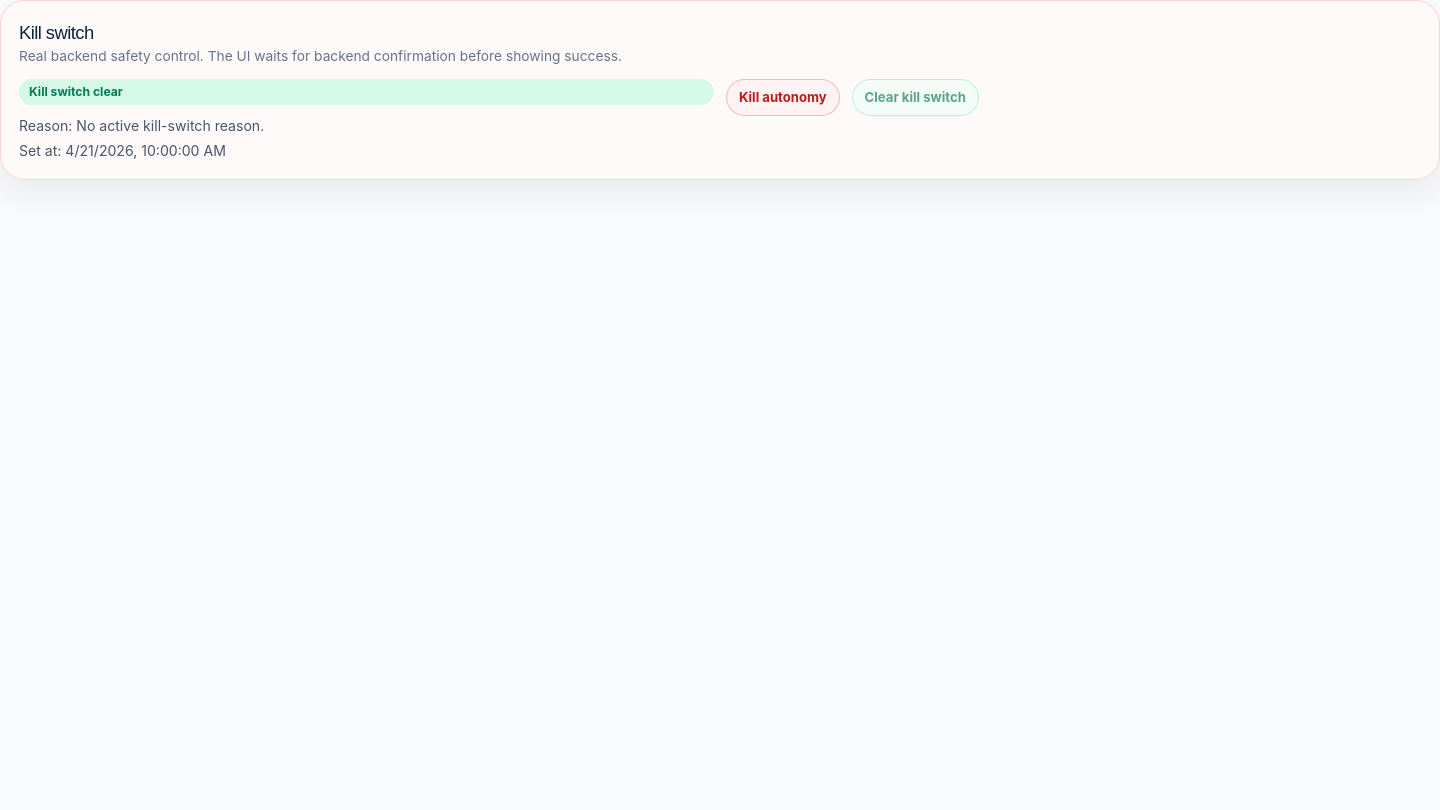
Test: cancel closes the dialog without calling onSetKillSwitch
The width and height of the screenshot is (1440, 810).
Click the button "Kill autonomy": (783, 97) [726, 79, 840, 116]
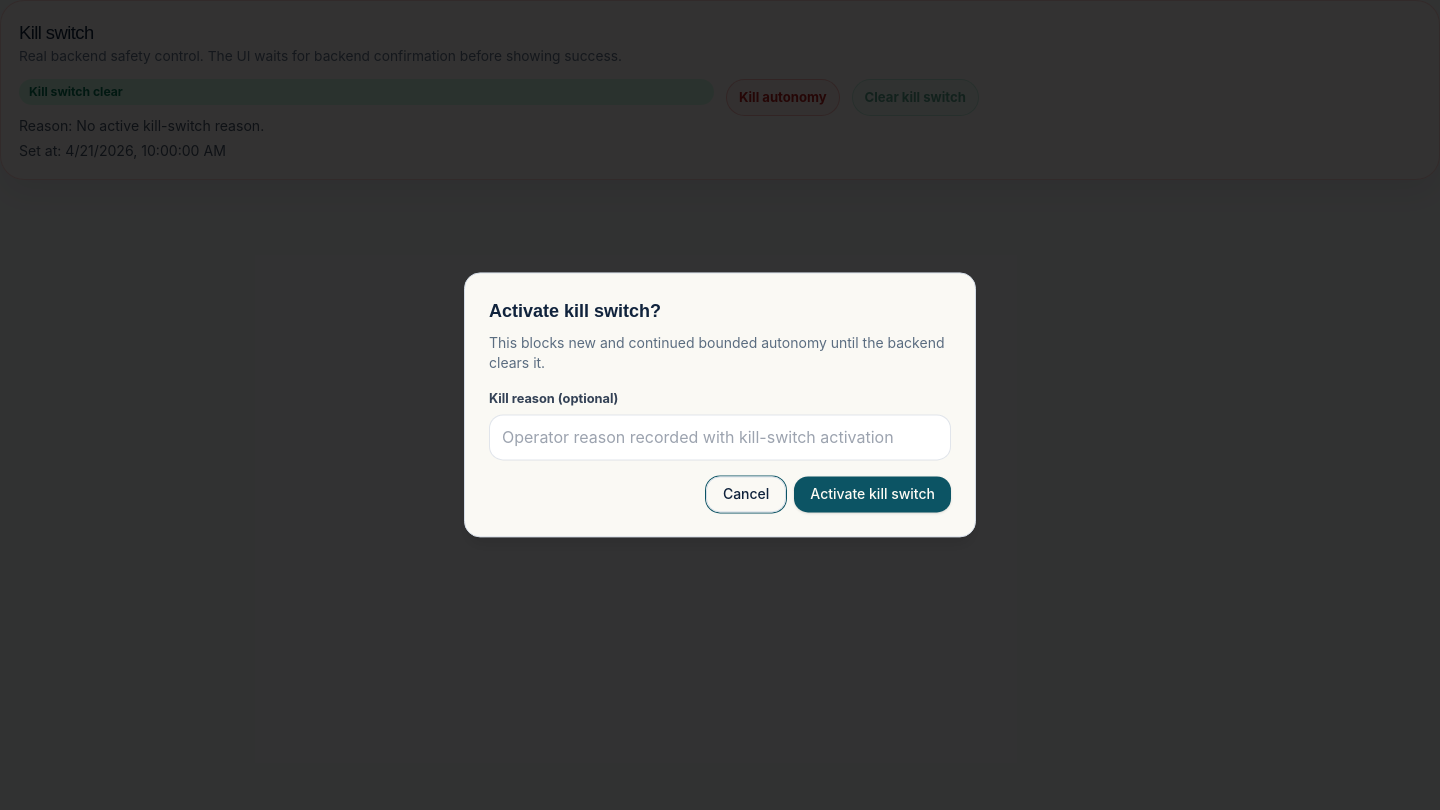
Now the heading "Activate kill switch?" is shown, box [489, 301, 661, 321]
Click the button "Cancel": (746, 495) [706, 477, 786, 513]
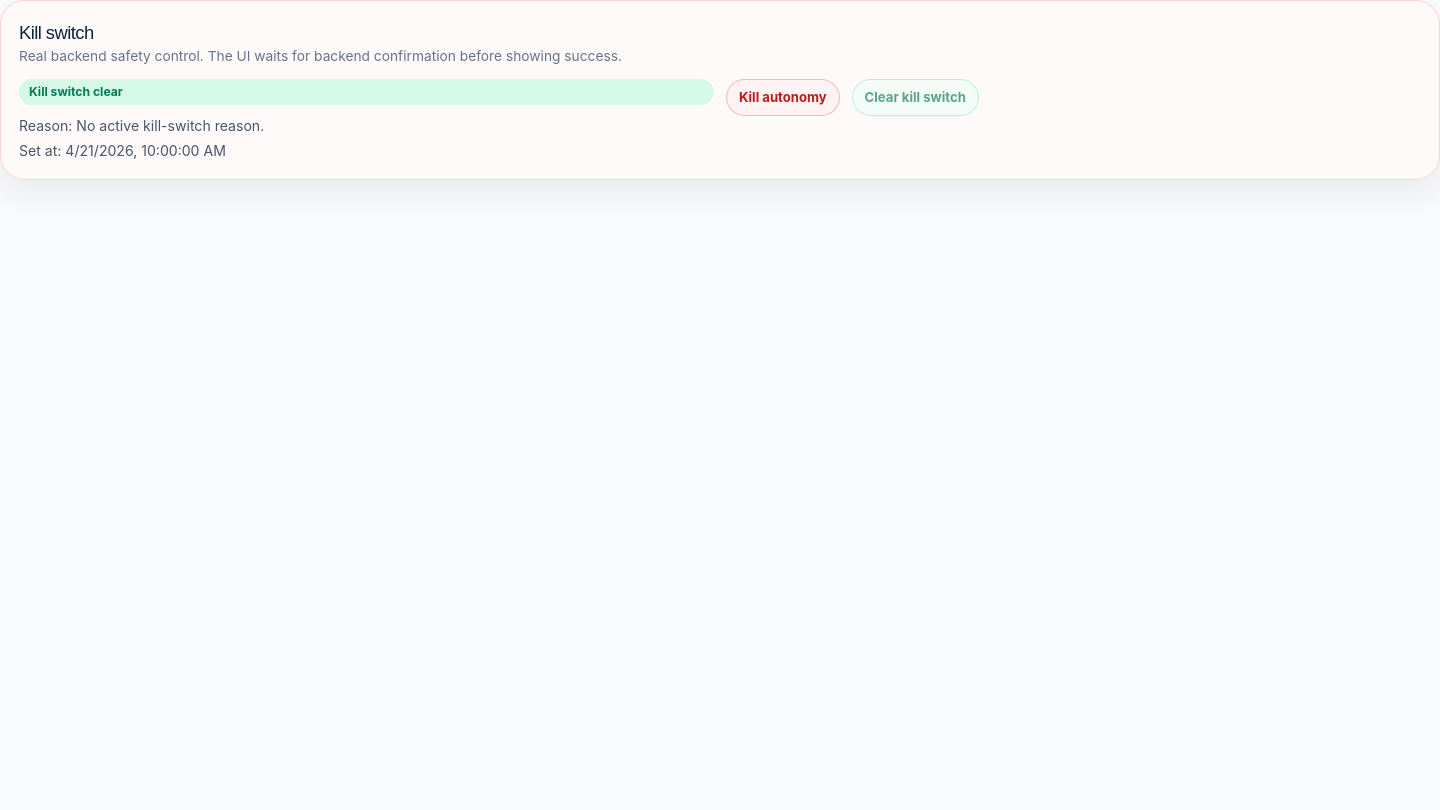
Now the heading "Activate kill switch?" is gone
